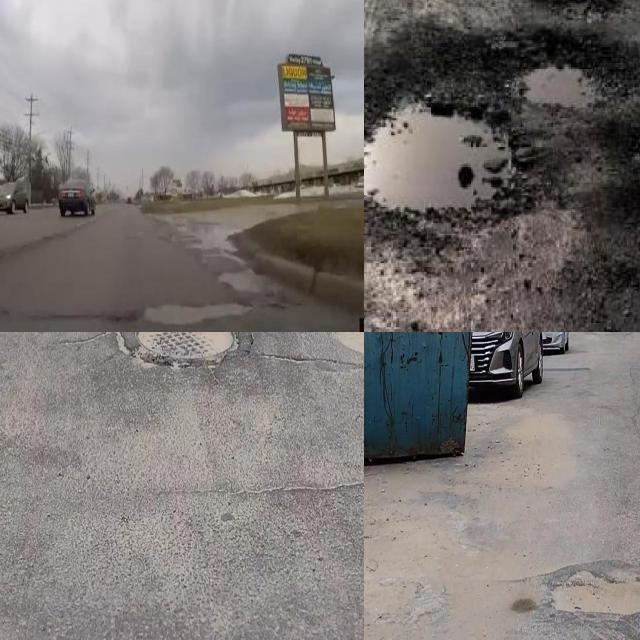Pothole: (364, 103, 515, 215), (188, 228, 273, 307), (515, 66, 612, 111), (552, 570, 640, 618), (132, 332, 240, 365), (147, 296, 245, 331), (533, 0, 624, 28), (98, 305, 143, 326)
